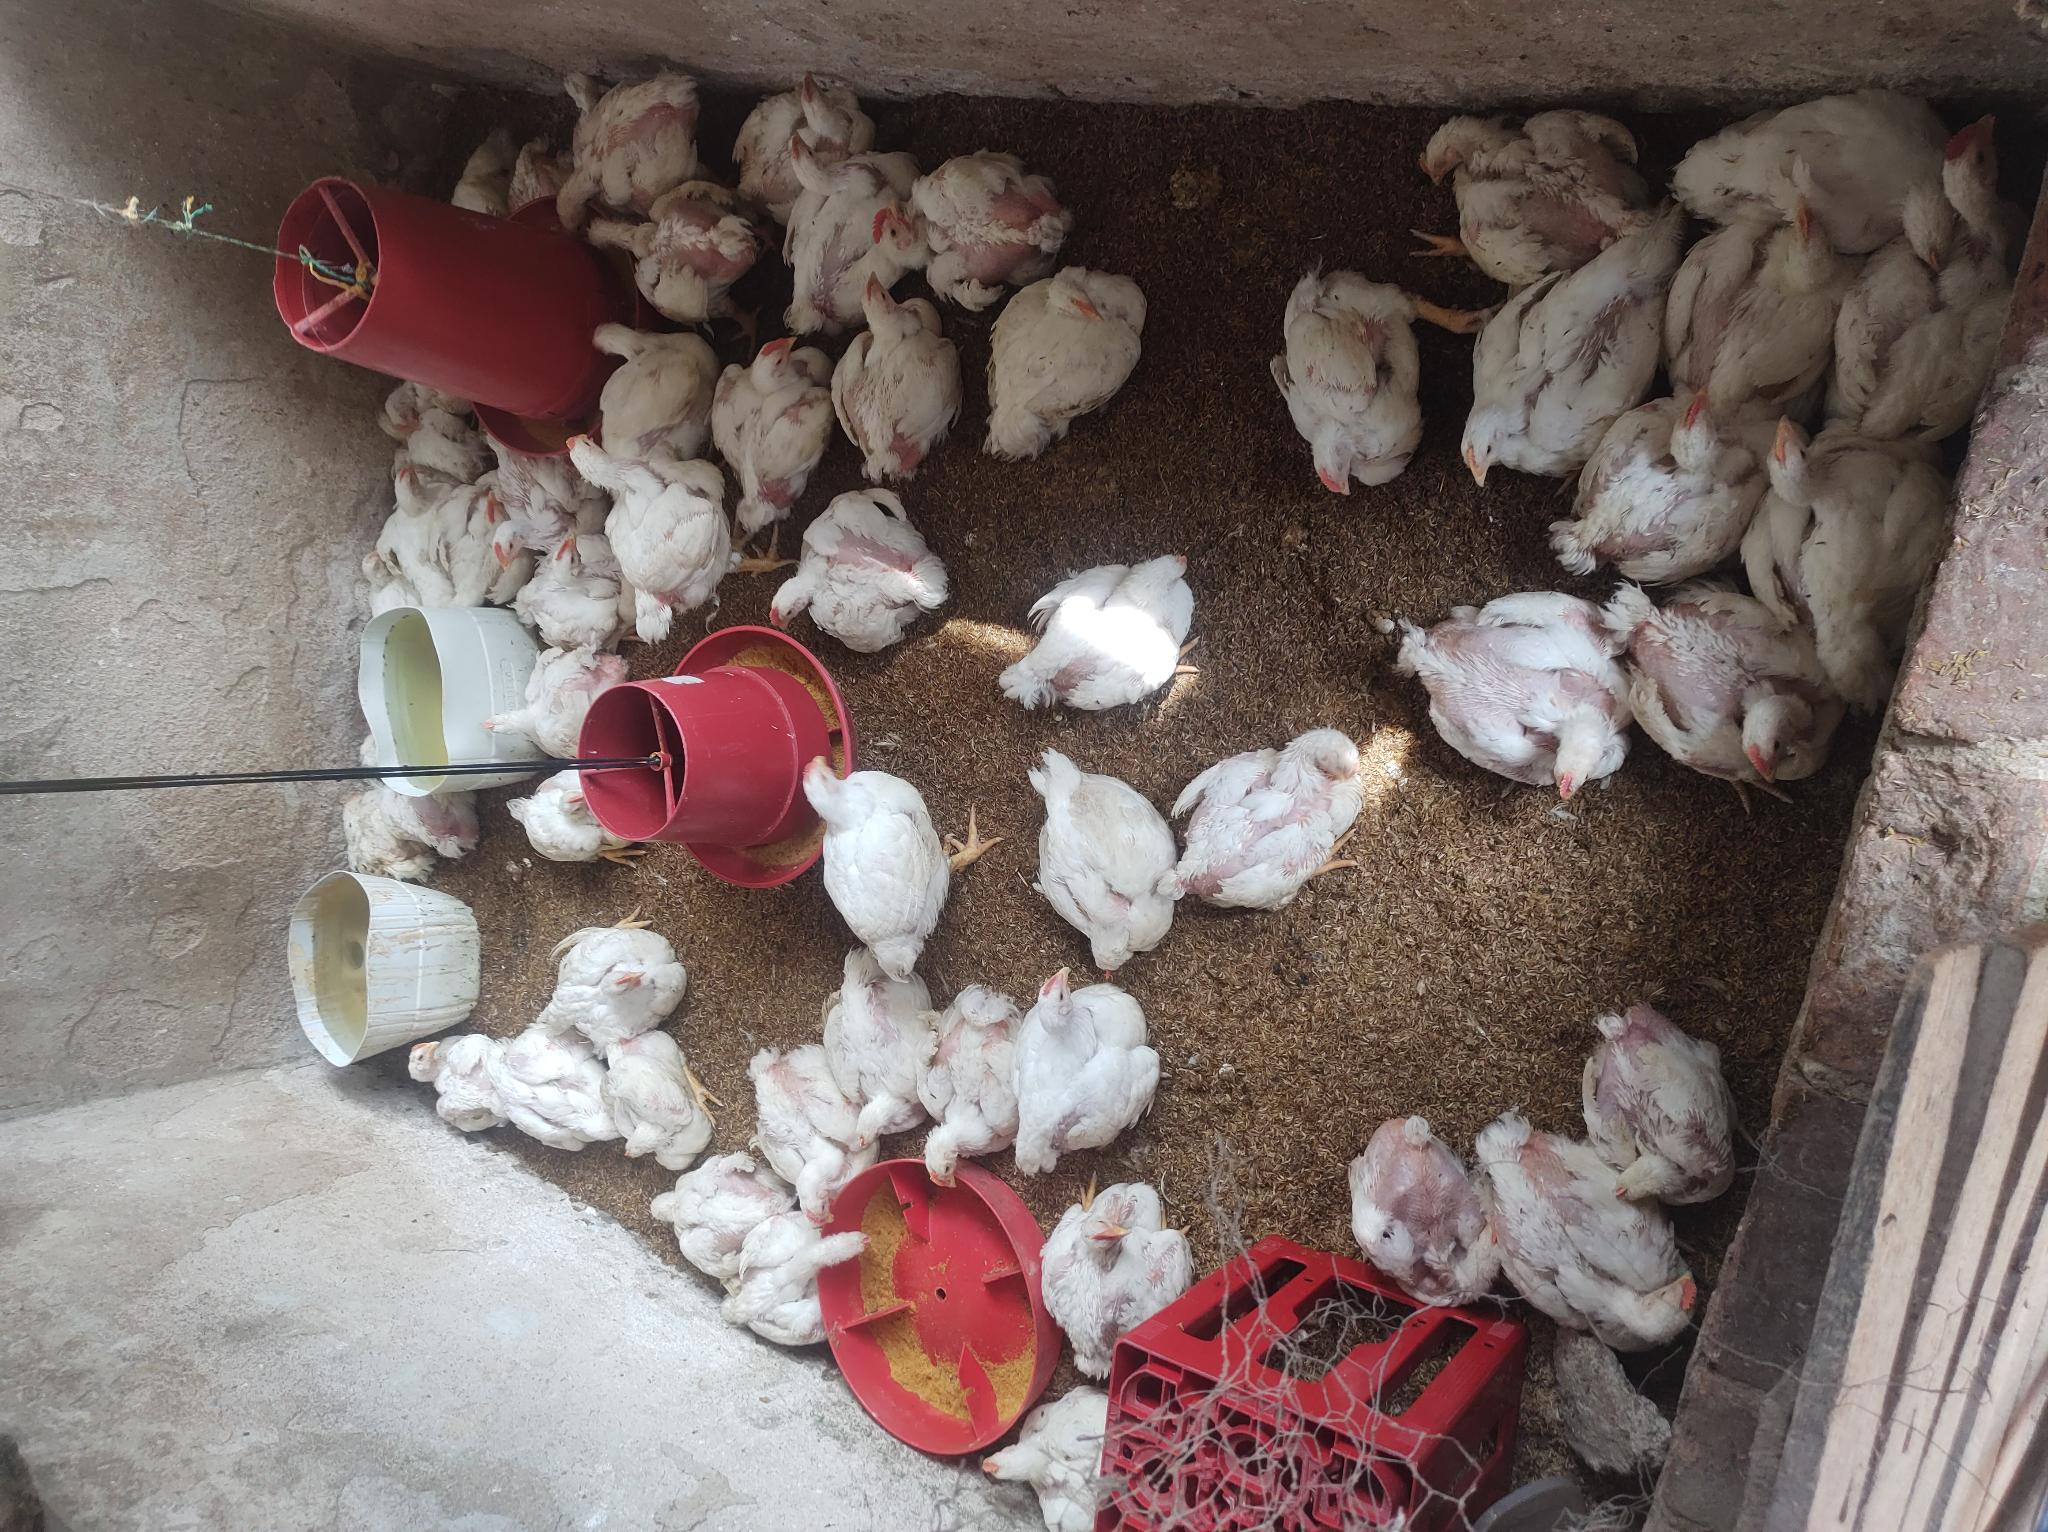Pollos: (1482, 1099, 1726, 1371), (1594, 557, 1852, 813), (1450, 232, 1691, 489), (1747, 410, 1960, 682), (1844, 119, 2032, 418), (1675, 77, 1969, 267), (1310, 1093, 1507, 1334), (1409, 591, 1635, 795), (1158, 729, 1380, 920), (1581, 988, 1766, 1205), (1401, 92, 1633, 262), (967, 259, 1158, 463), (803, 735, 951, 978), (1285, 259, 1437, 496), (560, 439, 750, 624), (1004, 550, 1202, 723), (869, 150, 1091, 299), (1581, 385, 1750, 579), (1014, 969, 1162, 1176), (766, 491, 952, 655), (1023, 753, 1162, 961), (1688, 208, 1837, 399), (1038, 1167, 1182, 1357), (833, 272, 960, 488), (967, 1381, 1145, 1532), (705, 1213, 869, 1378), (751, 1044, 874, 1250), (816, 946, 940, 1143), (915, 982, 1023, 1196), (561, 68, 698, 233), (597, 180, 756, 317), (718, 333, 832, 512), (597, 991, 718, 1155), (330, 763, 467, 900), (578, 315, 708, 457), (491, 1011, 615, 1152), (738, 64, 882, 187), (658, 1146, 788, 1278), (491, 645, 639, 756), (767, 137, 888, 269), (483, 766, 639, 867), (560, 917, 698, 1020), (402, 1019, 492, 1149), (491, 426, 570, 570), (529, 541, 640, 632), (500, 134, 573, 217), (360, 401, 454, 463), (352, 547, 430, 623), (373, 460, 444, 536), (380, 373, 462, 422), (487, 470, 512, 510)
